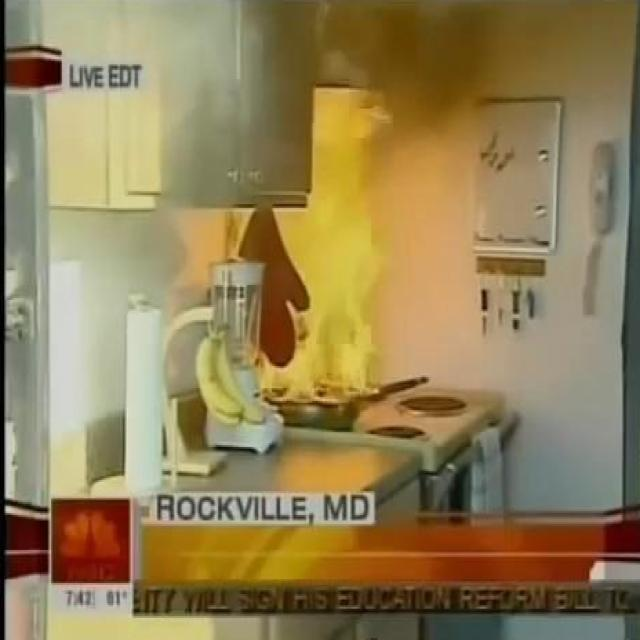fire: (308, 0, 507, 83)
smoke: (226, 84, 390, 400)
